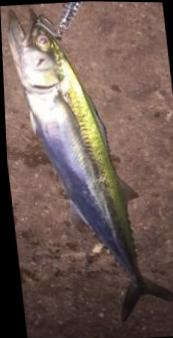fish: (9, 10, 173, 319)
